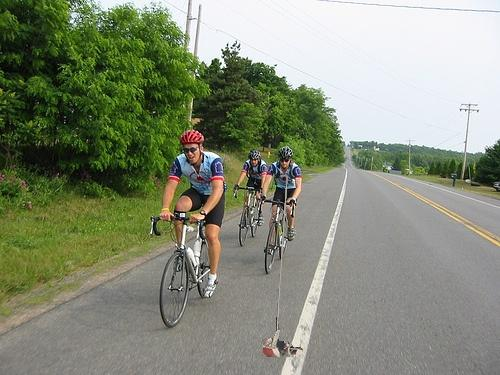tampered: (263, 129, 341, 357)
